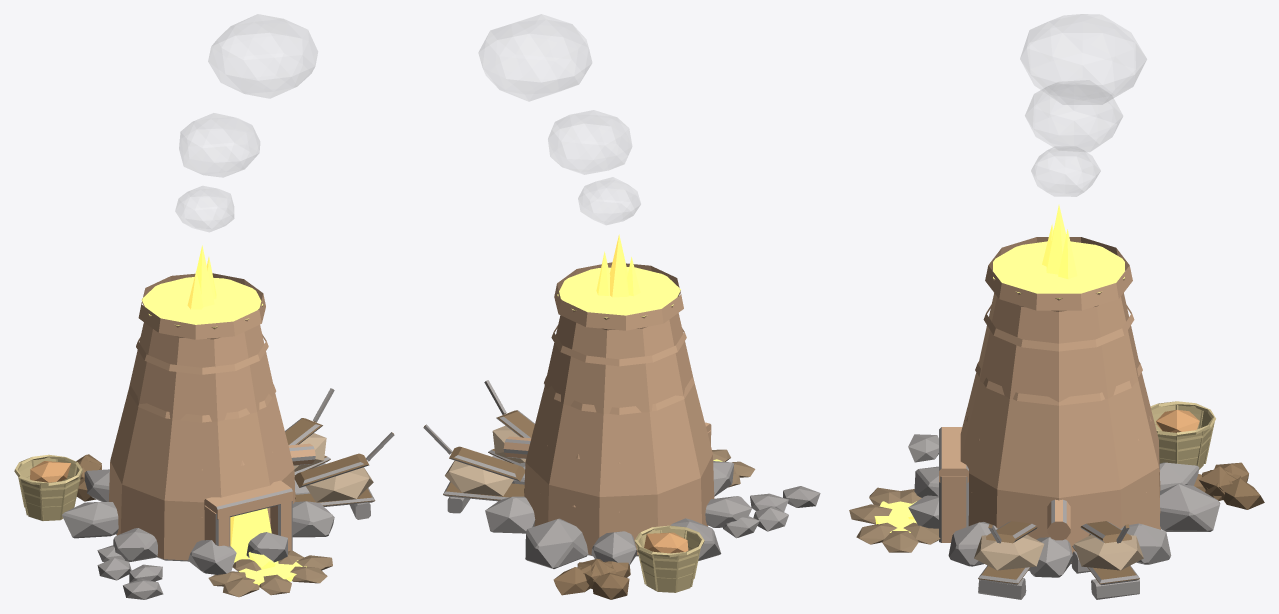
The model's file is smelter.glb.
The picture shows the model from 3 angles, left to right: view 1: azimuth 30°, elevation 25°; view 2: azimuth 150°, elevation 25°; view 3: azimuth 270°, elevation 25°; orthographic projection. The views are drawn at different scales.
Visible parts, largest first — view 1: smelter; view 2: smelter; view 3: smelter.
Part boxes in pixels (box(x1,y1,x2,y2)): smelter: box(14, 14, 394, 599); smelter: box(423, 14, 820, 599); smelter: box(849, 14, 1264, 599).
Size of the model in its own units: 1.81 by 2.78 by 1.94.
